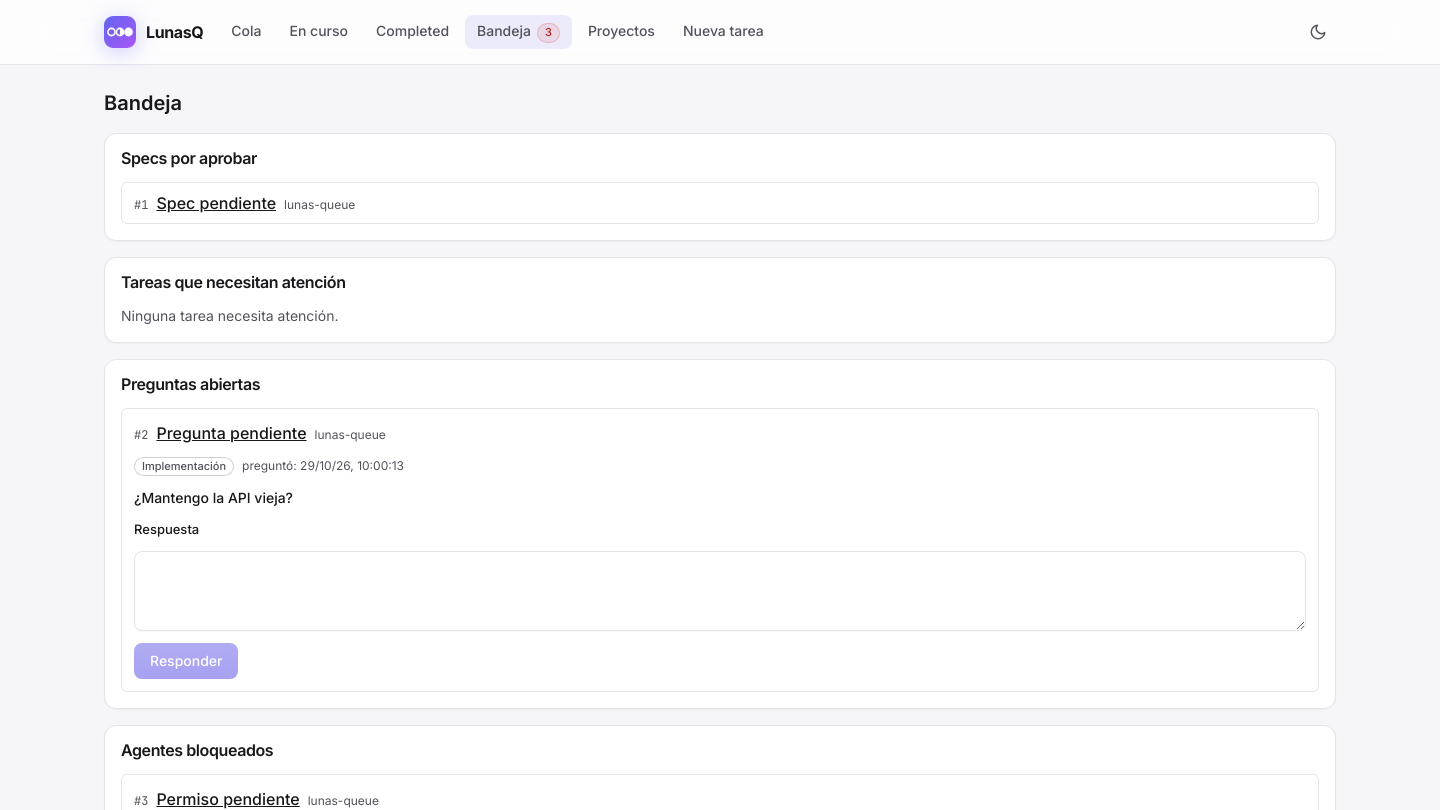
Test: bandeja › las preguntas y bloqueos se resuelven en la bandeja y la spec en el detalle
In the text box labelled "Respuesta": coordinates (720, 591) [134,551,1306,631], type "No"
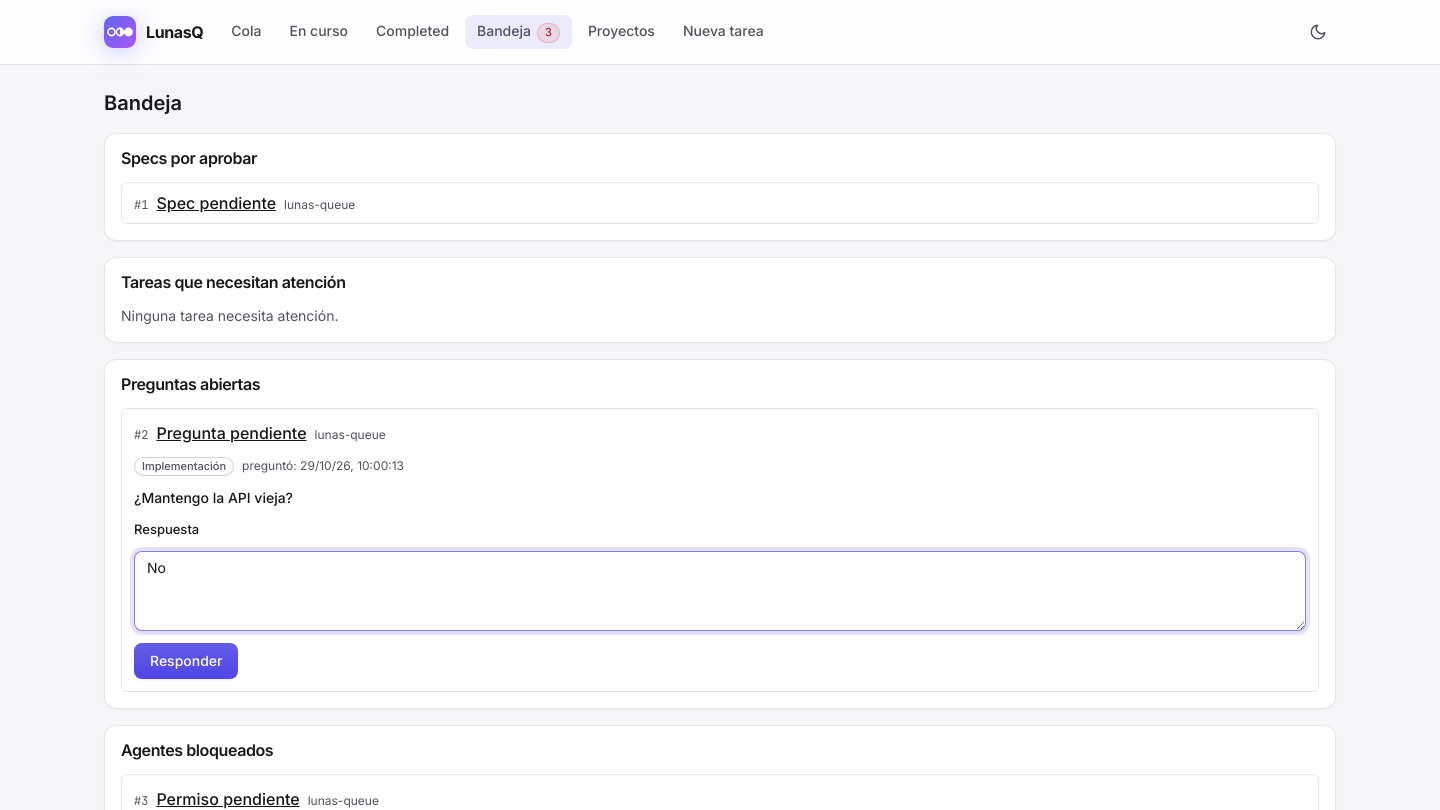
Click the button "Responder": coordinates (186, 661) [134,643,238,679]
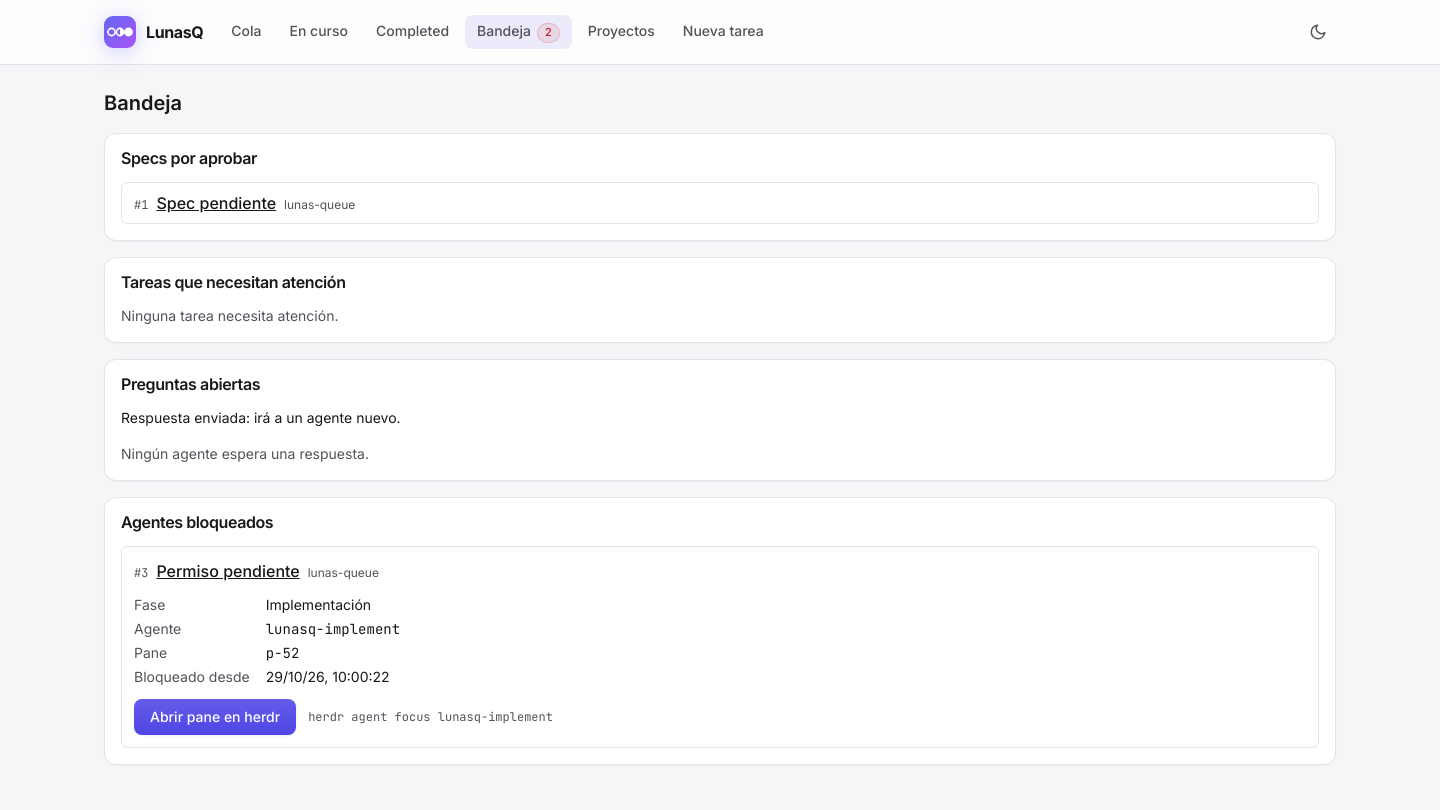
Click the button "Abrir pane en herdr": coordinates (215, 717) [134,699,296,735]
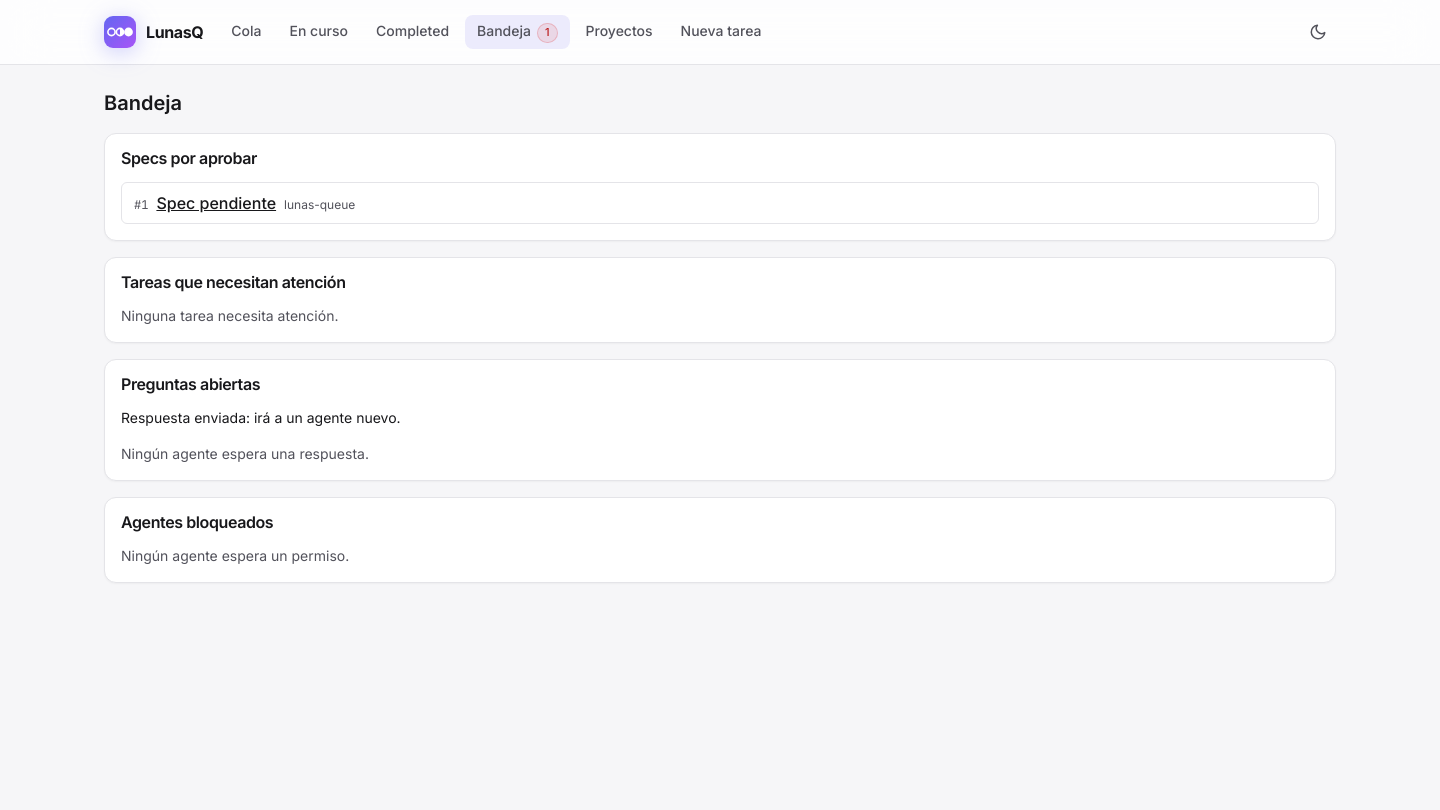
Now the text "Ningún agente espera un permiso." is shown, box [121,547,349,564]
Click the link "Spec pendiente": coordinates (216, 203) [156,191,276,215]
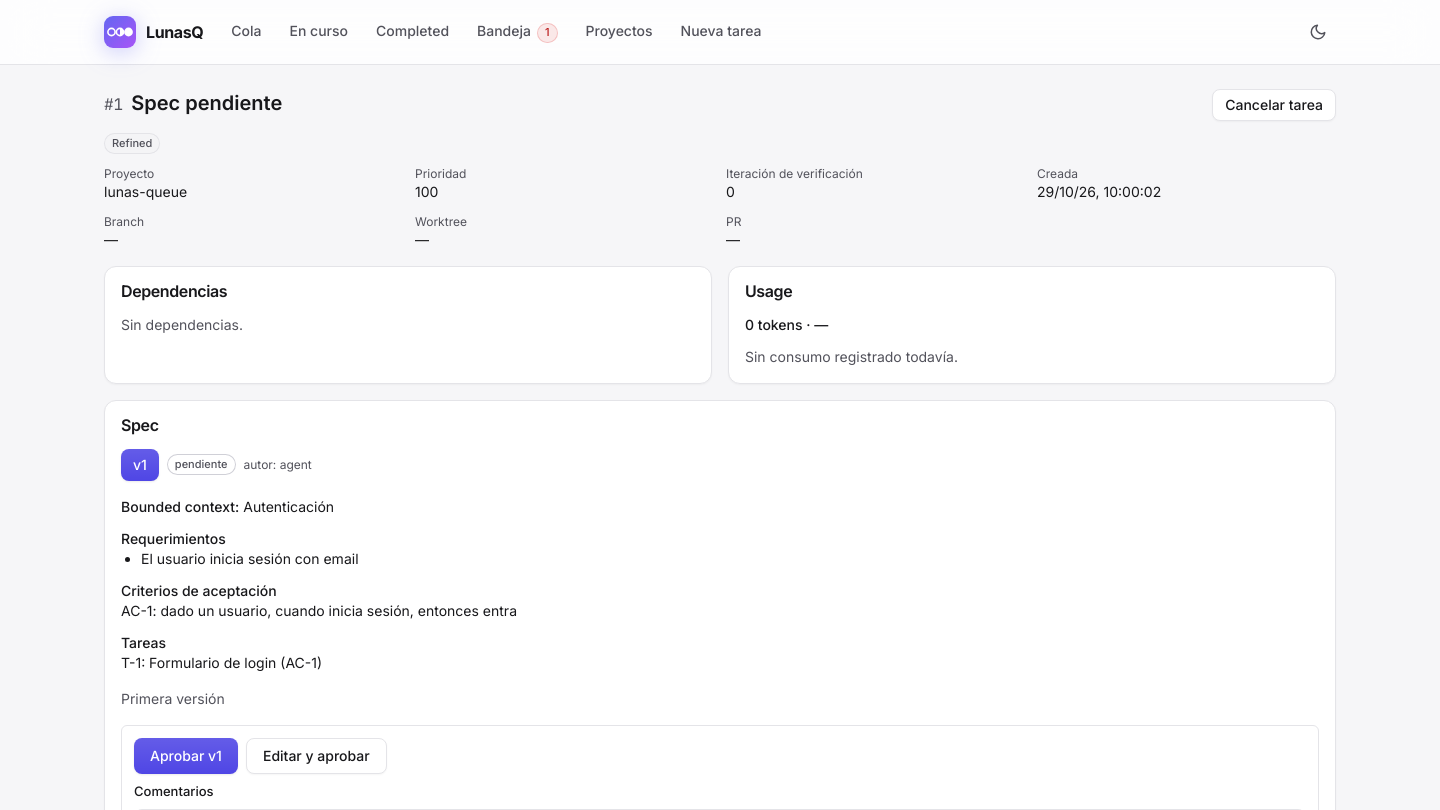
Click the button "Aprobar v1": coordinates (186, 756) [134,738,238,774]
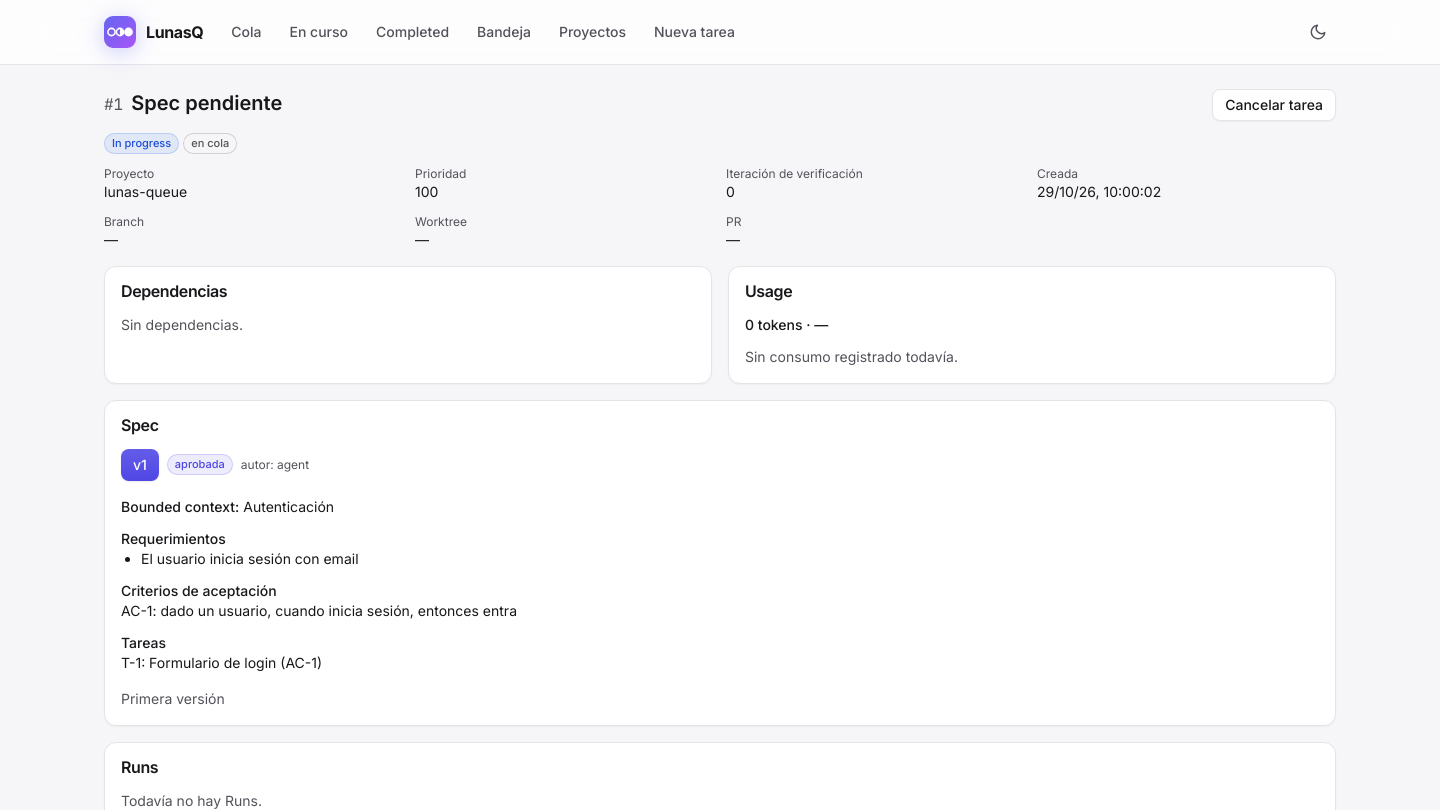
Now the text "In progress" is shown, box [104,133,179,154]
Click the link "Bandeja": coordinates (504, 32) [477,23,531,40]
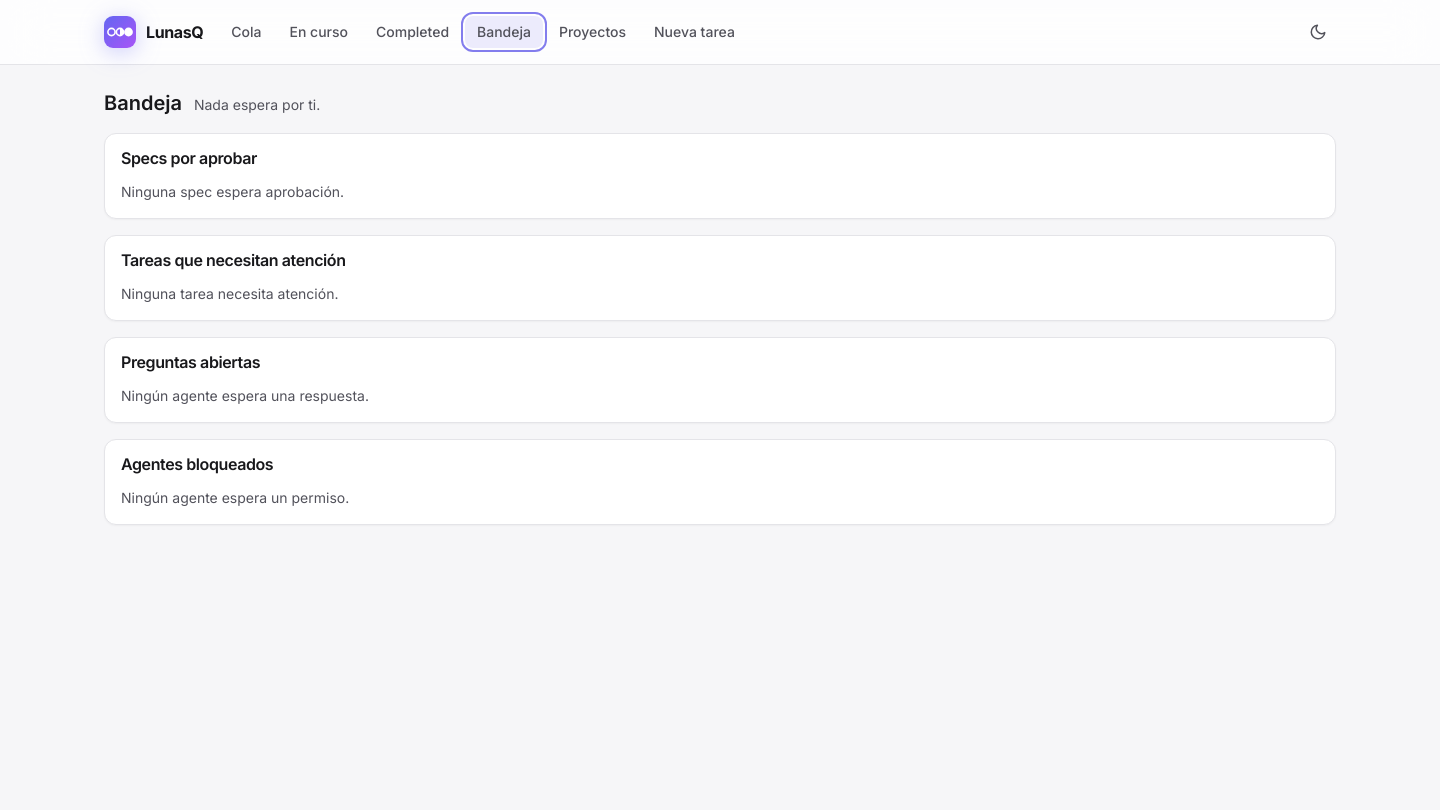
Now the text "Nada espera por ti." is shown, box [194,95,320,115]
